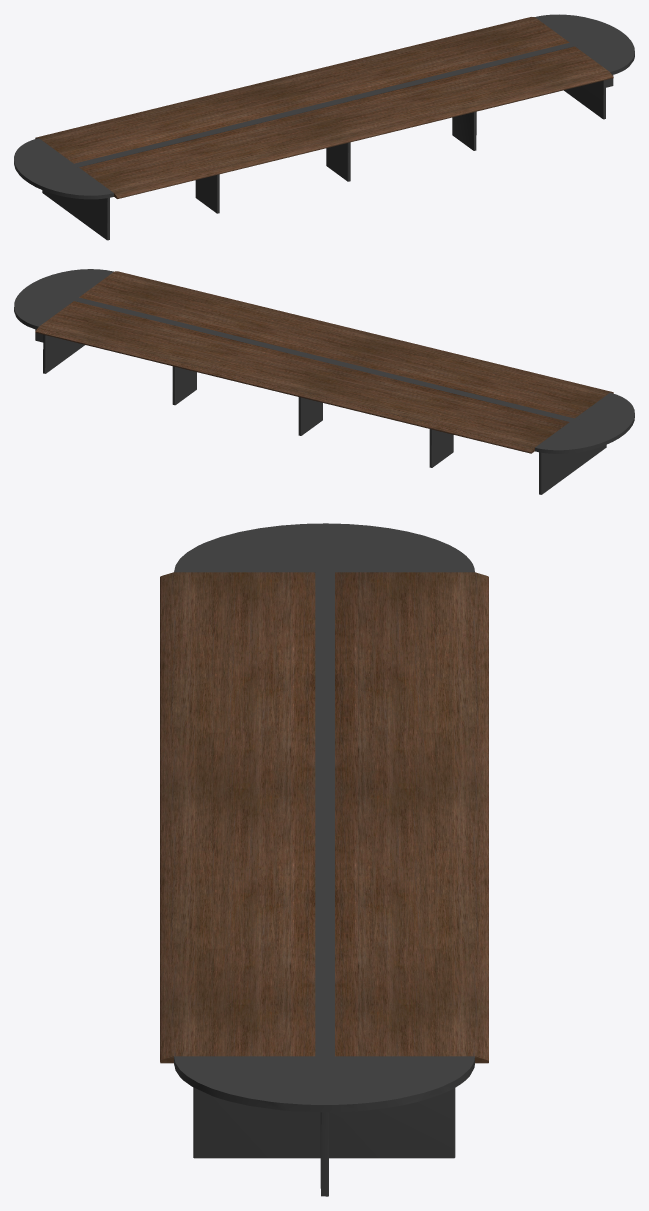
Rendered from table1.FBX.
3 views of the same model, one above another, from view 1: azimuth 30°, elevation 25°; view 2: azimuth 150°, elevation 25°; view 3: azimuth 270°, elevation 25° (orthographic). The views are drawn at different scales.
Parts seen in each view (by area): view 1: Table1; view 2: Table1; view 3: Table1.
Boxes of the visible parts, box(x1,y1,x2,y2) form: Table1: box(14, 14, 634, 240); Table1: box(14, 269, 634, 494); Table1: box(160, 523, 488, 1196).
Size of the model in its own units: 9326 by 2230 by 755.
